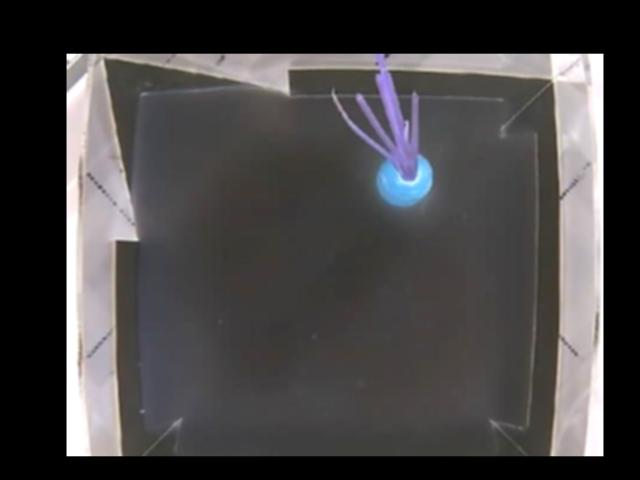Carrot: (360, 121, 433, 205)
